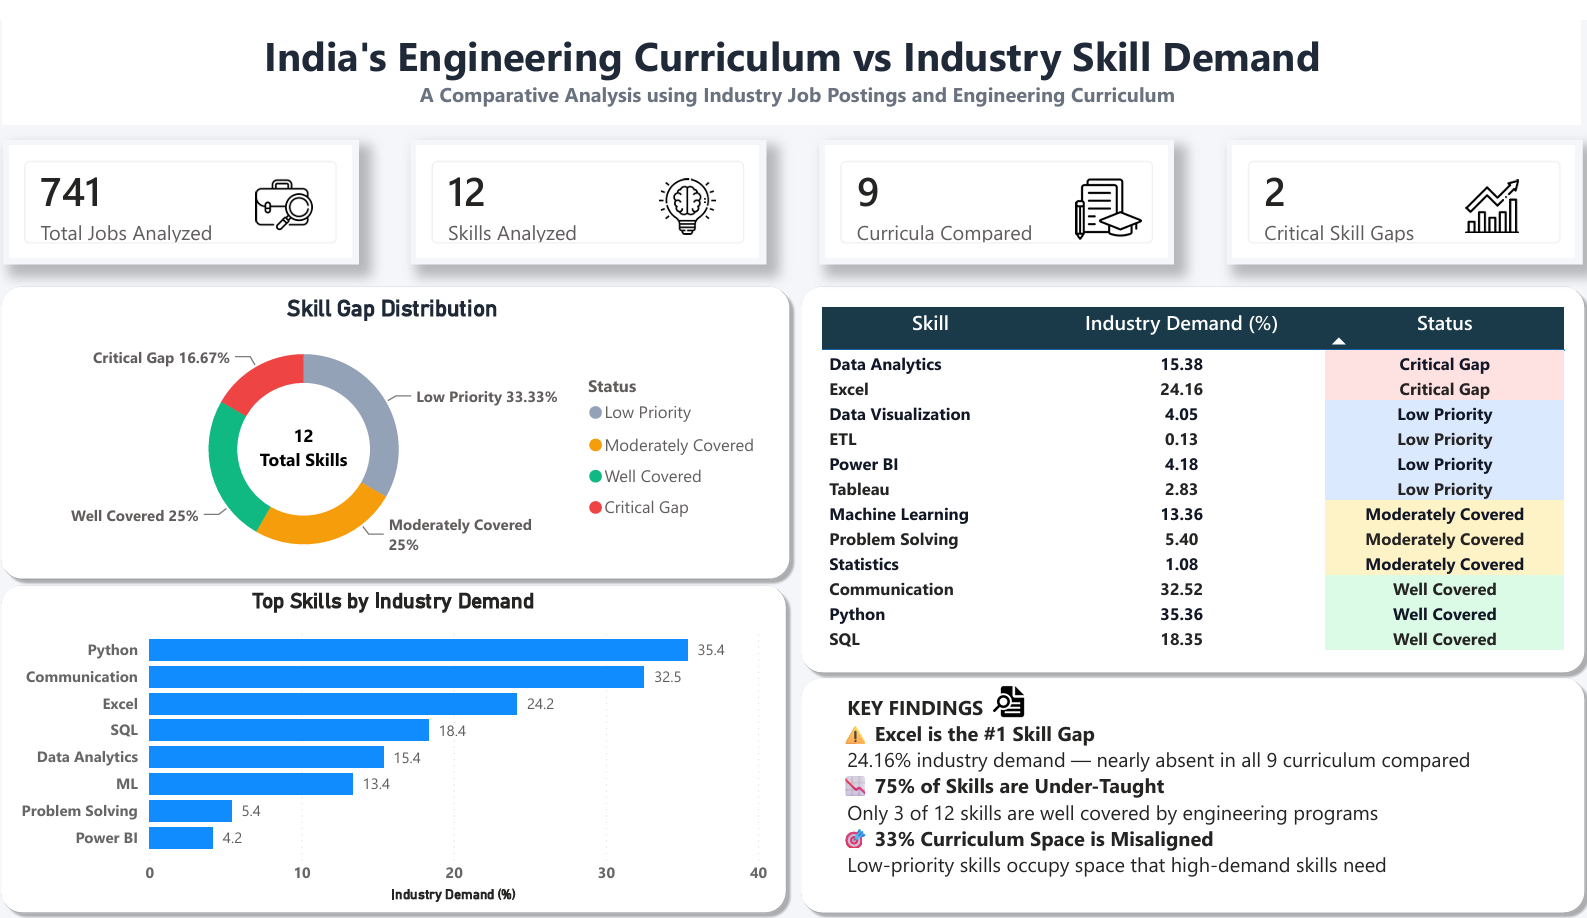

This screenshot's page, from the dashboard's own definition file:
{"tool":"powerbi","page":{"name":"Page 1","canvas":[1280,720],"ordinal":0},"visuals":[{"type":"shape","box":[639.5,518.6,640.7,201.2],"z":0},{"type":"cardVisual","fields":{"Data":["CountNonNull(clean_jobs.title)"]},"box":[8.1,95.3,284.6,100],"z":1000},{"type":"shape","box":[639.5,205.8,640.7,322.1],"z":2000},{"type":"cardVisual","fields":{"Data":["Count(skill_frequency.Skill)"]},"box":[334.5,95.3,284.6,100],"z":3000},{"type":"shape","box":[0,205.8,644.2,247.7],"z":4000},{"type":"textbox","box":[8.1,0,1262.8,83.7],"z":5000},{"type":"cardVisual","fields":{"Data":["CountNonNull(skill_gap_analysis.Status)"]},"box":[987.1,95.3,284.6,100],"z":6000},{"type":"cardVisual","fields":{"Data":["Count(college_skill_gap.College)"]},"box":[660.8,95.3,284.6,100],"z":7000},{"type":"donutChart","title":"Skill Gap Distribution","fields":{"Category":["skill_gap_analysis.Status"],"Y":["CountNonNull(skill_frequency.Skill)"]},"box":[16.3,218.6,607,226.7],"z":8000},{"type":"textbox","box":[208,317,81.4,48.8],"z":9000},{"type":"tableEx","fields":{"Values":["skill_gap_analysis.Skill","Avg(skill_gap_analysis.Industry Demand (%))","skill_gap_analysis.Status"]},"box":[658.1,224.4,605.8,286],"z":10000},{"type":"textbox","box":[673.8,532.5,577.5,175],"z":11000},{"type":"shape","box":[0,445.4,640.7,274.4],"z":12000},{"type":"clusteredBarChart","title":"Top Skills by Industry Demand","fields":{"Category":["college_skill_gap.Skill"],"Y":["Avg(college_skill_gap.Industry Demand (%))"]},"box":[16.2,453.8,607.5,256.2],"z":13000},{"type":"image","box":[195.3,124.4,75.6,45.3],"z":14000},{"type":"image","box":[514,125.6,82.6,45.3],"z":15000},{"type":"image","box":[861.6,124.4,61.6,52.3],"z":16000},{"type":"image","box":[1169.8,126.7,59.3,43],"z":17000},{"type":"image","box":[781.2,528.8,61.2,31.2],"z":18000}]}

Visuals, with their boxes in screenshot pixels (x1, y1, x2, y2), scaled from the page's 1280x720 canvas onto the 1587x918 screenshot:
shape: <bbox>793, 661, 1586, 917</bbox>
cardVisual - CountNonNull(clean_jobs.title): <bbox>10, 122, 363, 249</bbox>
shape: <bbox>793, 262, 1586, 673</bbox>
cardVisual - Count(skill_frequency.Skill): <bbox>415, 122, 768, 249</bbox>
shape: <bbox>0, 262, 799, 578</bbox>
textbox: <bbox>10, 0, 1576, 107</bbox>
cardVisual - CountNonNull(skill_gap_analysis.Status): <bbox>1224, 122, 1577, 249</bbox>
cardVisual - Count(college_skill_gap.College): <bbox>819, 122, 1172, 249</bbox>
"Skill Gap Distribution" donutChart: <bbox>20, 279, 773, 568</bbox>
textbox: <bbox>258, 404, 359, 466</bbox>
tableEx - skill_gap_analysis.Skill x Avg(skill_gap_analysis.Industry Demand (%)): <bbox>816, 286, 1567, 651</bbox>
textbox: <bbox>835, 679, 1551, 902</bbox>
shape: <bbox>0, 568, 794, 917</bbox>
"Top Skills by Industry Demand" clusteredBarChart: <bbox>20, 579, 773, 905</bbox>
image: <bbox>242, 159, 336, 216</bbox>
image: <bbox>637, 160, 740, 218</bbox>
image: <bbox>1068, 159, 1145, 225</bbox>
image: <bbox>1450, 162, 1524, 216</bbox>
image: <bbox>969, 674, 1044, 714</bbox>
